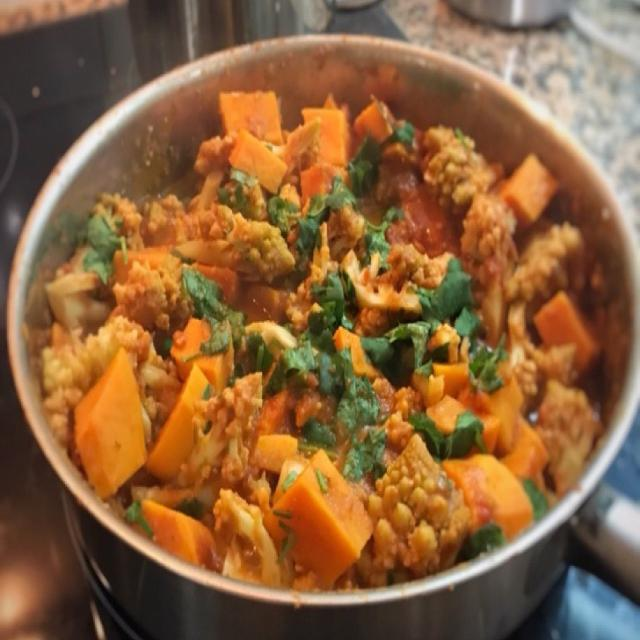Aloo Gobi: (92, 320, 450, 570)
